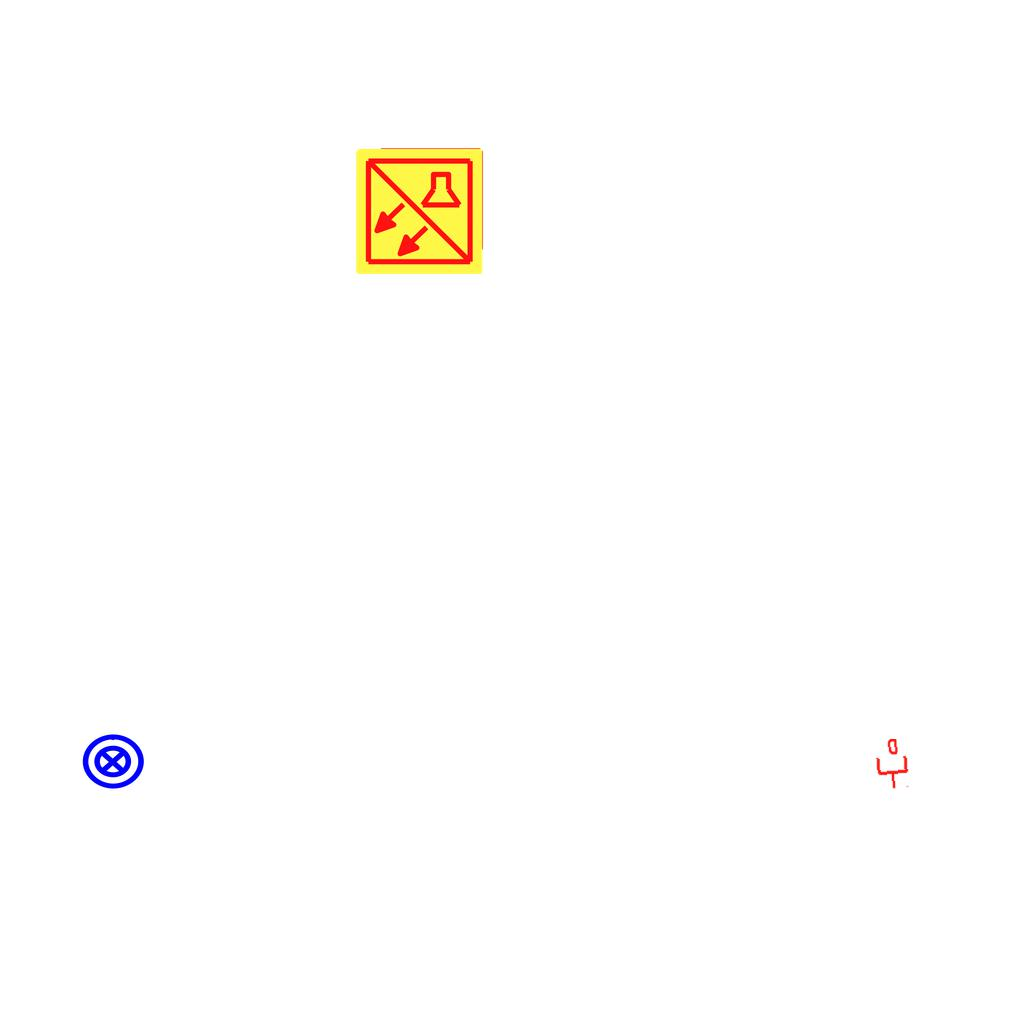Datenanschluss_einfach: (872, 737, 912, 791)
OKW_Multisensormelder_(Kombination_optischer_Rauch-Kahlenmonoxid_Waerme-Melder): (353, 145, 485, 277)
Taster_beleuchtet: (80, 729, 146, 795)
